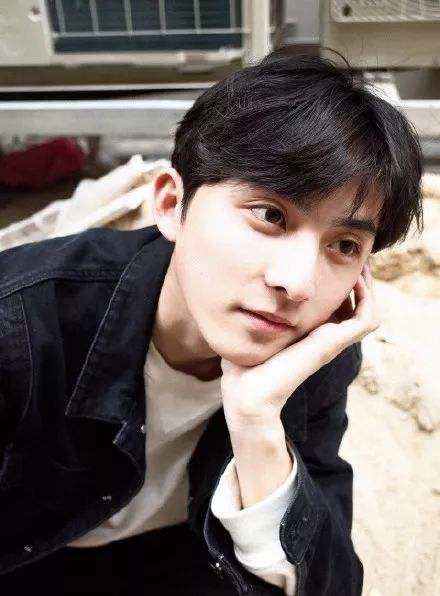person: (2, 47, 398, 556)
